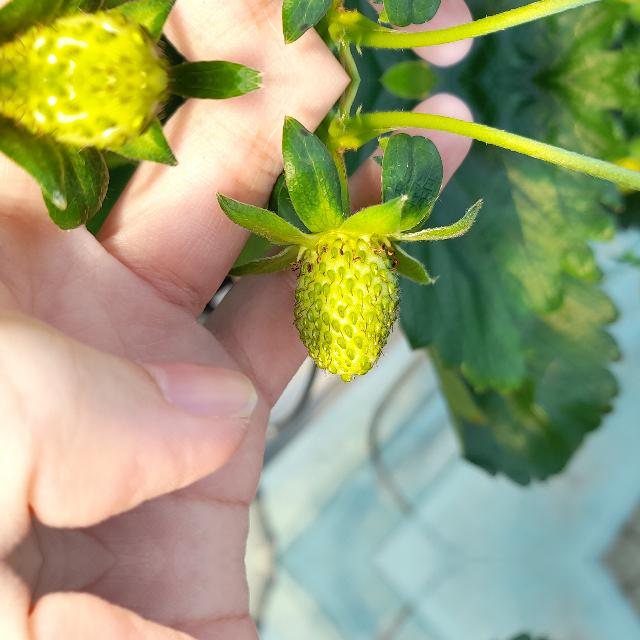Health_25: (292, 240, 402, 384)
